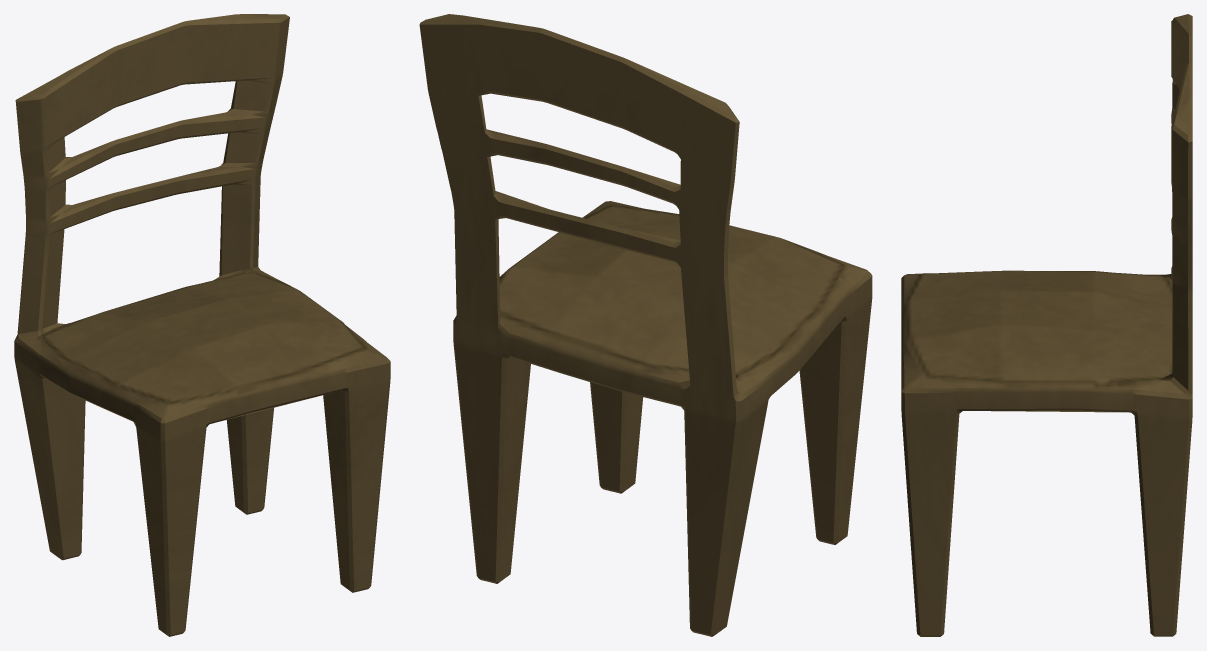
The model's file is chair.fbx.
The picture shows the model from 3 angles, left to right: view 1: azimuth 30°, elevation 25°; view 2: azimuth 150°, elevation 25°; view 3: azimuth 270°, elevation 25°; orthographic projection. The views are drawn at different scales.
Visible parts, largest first — view 1: polySurface609; view 2: polySurface609; view 3: polySurface609.
Part boxes in pixels (x1=…): polySurface609: x1=14, y1=14, x2=390, y2=636; polySurface609: x1=419, y1=14, x2=872, y2=636; polySurface609: x1=901, y1=14, x2=1192, y2=636.
Bounding box in the file's own units: 0.6625 × 1.13 × 0.5529.
Materials: 1 (1 with a texture image).
